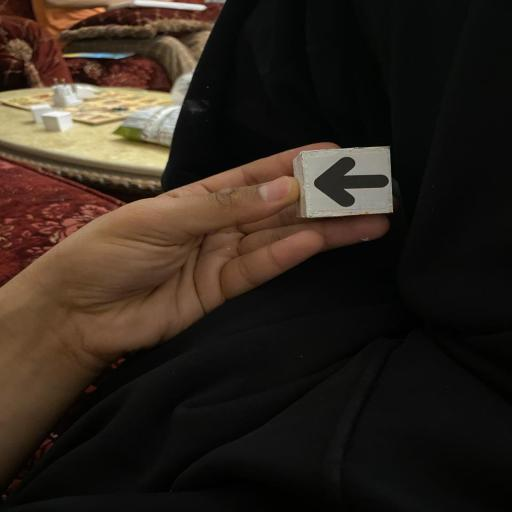Back: (290, 145, 397, 220)
